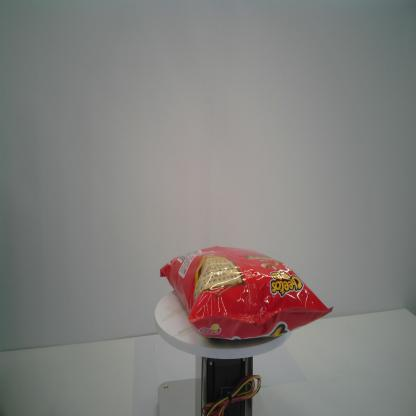Puffed Food: (158, 243, 335, 345)
